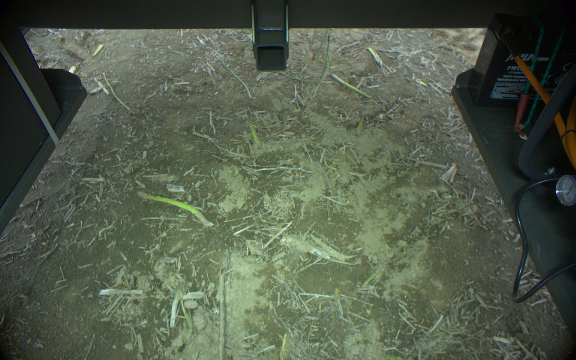aspa: (136, 189, 212, 228), (327, 71, 370, 100), (245, 110, 262, 148)
